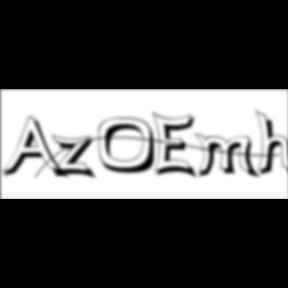A: (1, 116, 70, 182)
E: (153, 110, 202, 182)
O: (98, 117, 164, 176)
m: (195, 132, 263, 181)
z: (52, 134, 101, 182)
